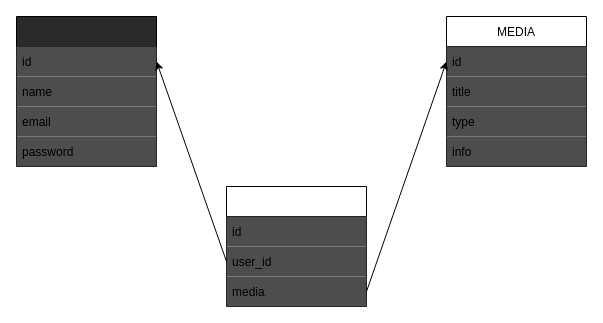
Image size: 603x323. Some labels were removed from this diagram. Here are the shapes that lost their labels. From the top down, the box of each, then its label:
(16, 16, 156, 166): USER
(226, 186, 366, 306): LIST
